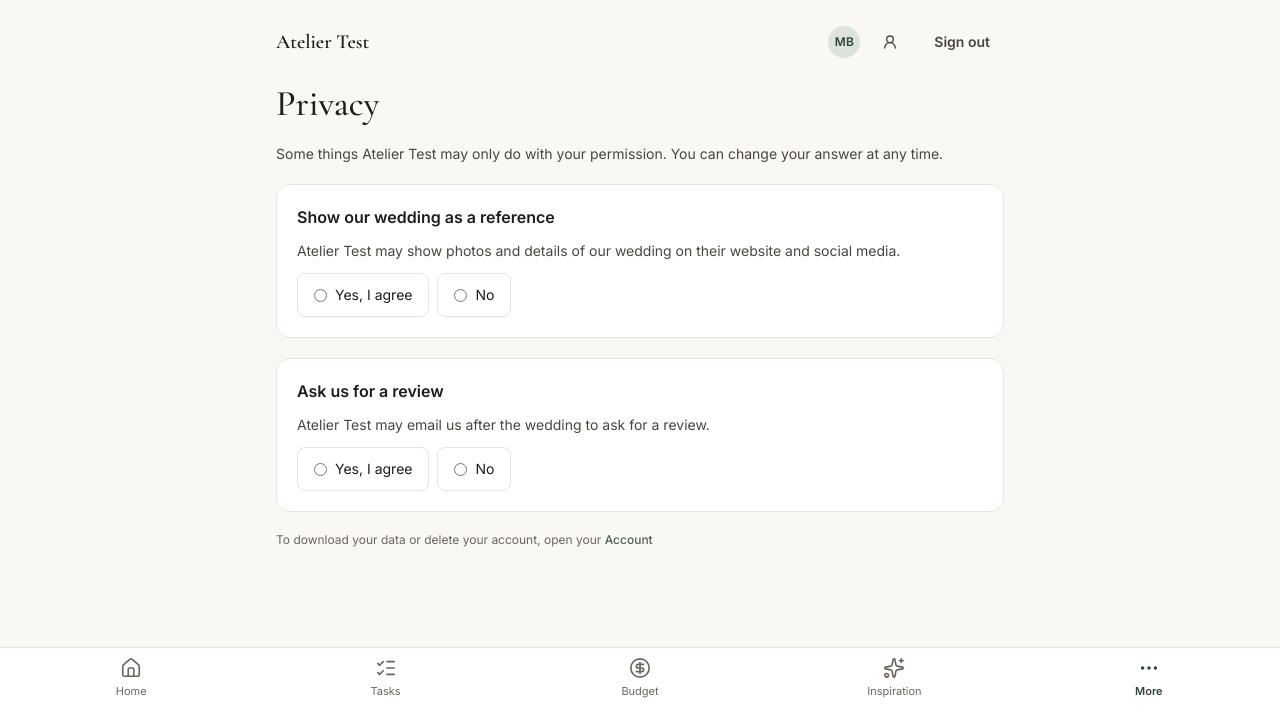
Scenario: lets the couple decide on optional permissions
This screenshot has width=1280, height=720.
Click the radio button labelled "No" below "Show our wedding as a reference" at (461, 295), box [454,288,468,302]
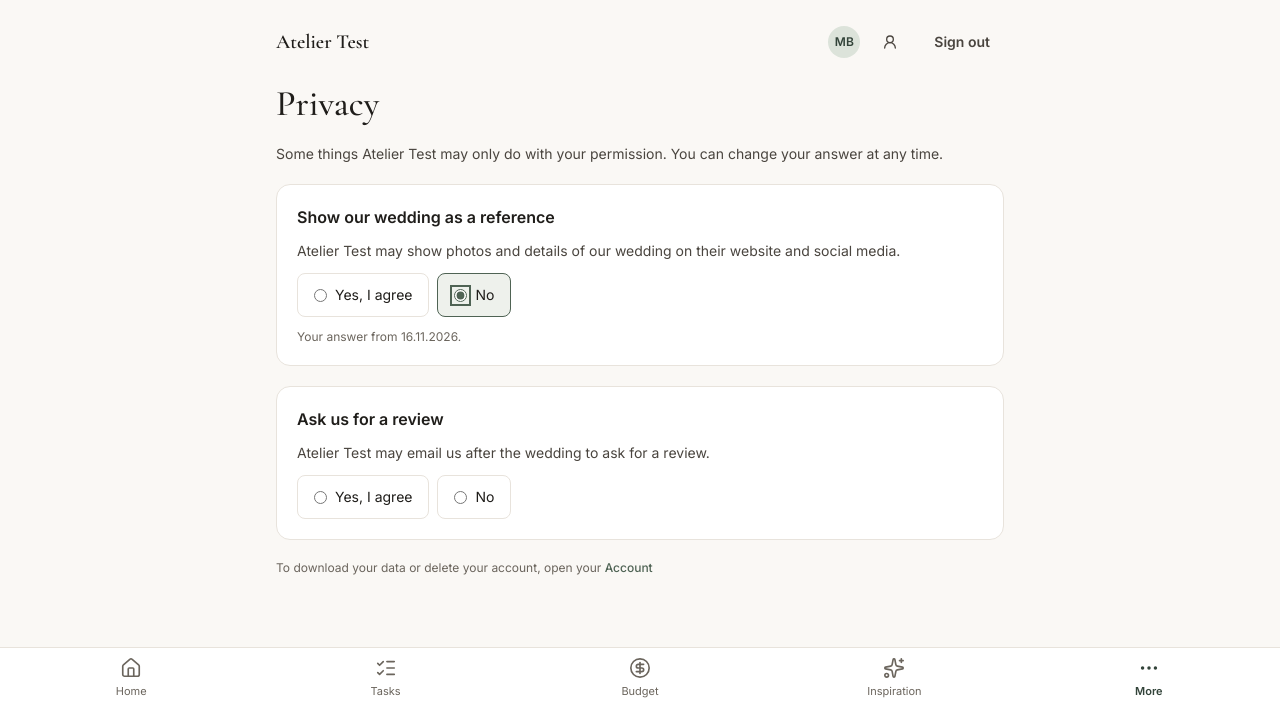
Result: the text "Your answer from 16.11.2026." is shown at [297,329,461,344]
